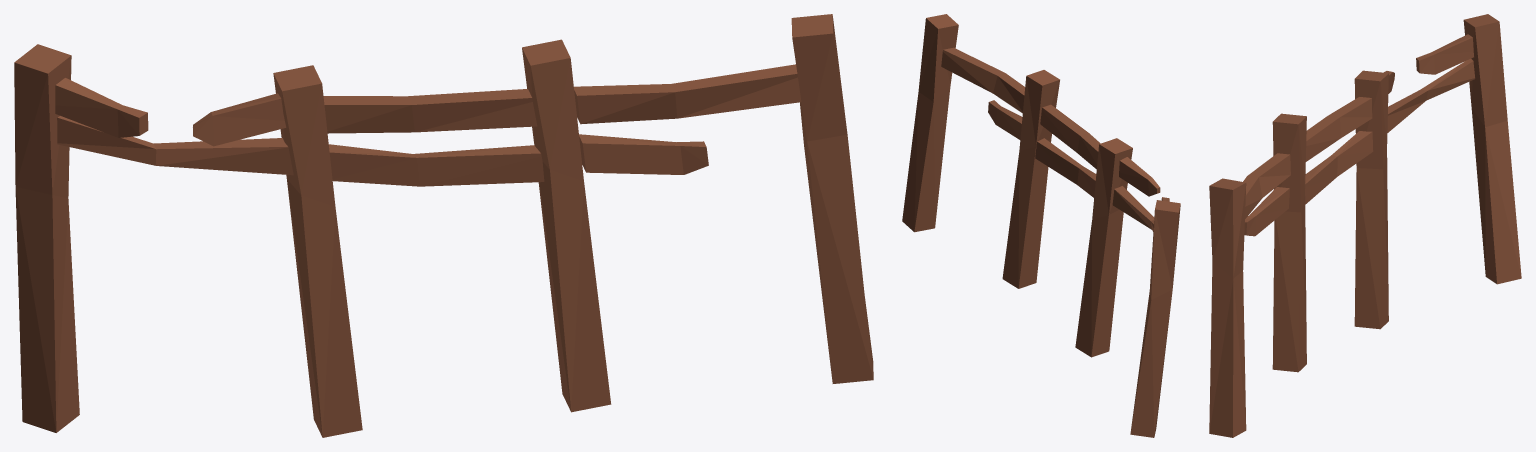
The model's file is fences.fbx.
3 views of the same model, side by side, from view 1: azimuth 30°, elevation 25°; view 2: azimuth 150°, elevation 25°; view 3: azimuth 270°, elevation 25° (orthographic). The views are drawn at different scales.
Parts seen in each view (by area): view 1: fence; view 2: fence; view 3: fence.
Part boxes in pixels (x1,y1,x2,y2): fence: (14, 14, 873, 437); fence: (902, 14, 1180, 437); fence: (1209, 14, 1521, 437).
Size of the model in its own units: 42.13 by 25.24 by 26.
